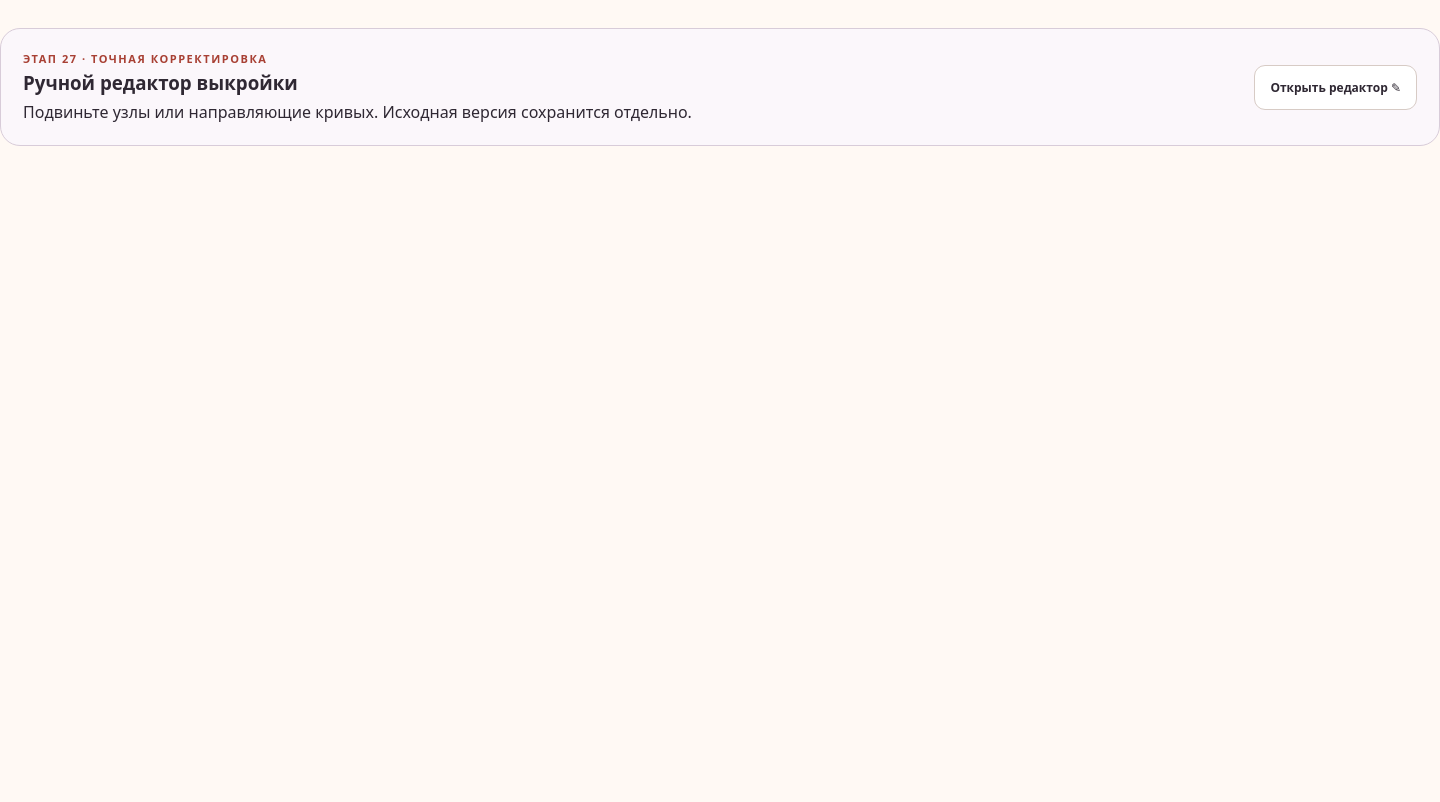
stage 27 pattern geometry editor › shows a safe server rejection without losing the draft
Click the button "Открыть редактор ✎".
click(1336, 87)  # box [1254, 64, 1417, 110]
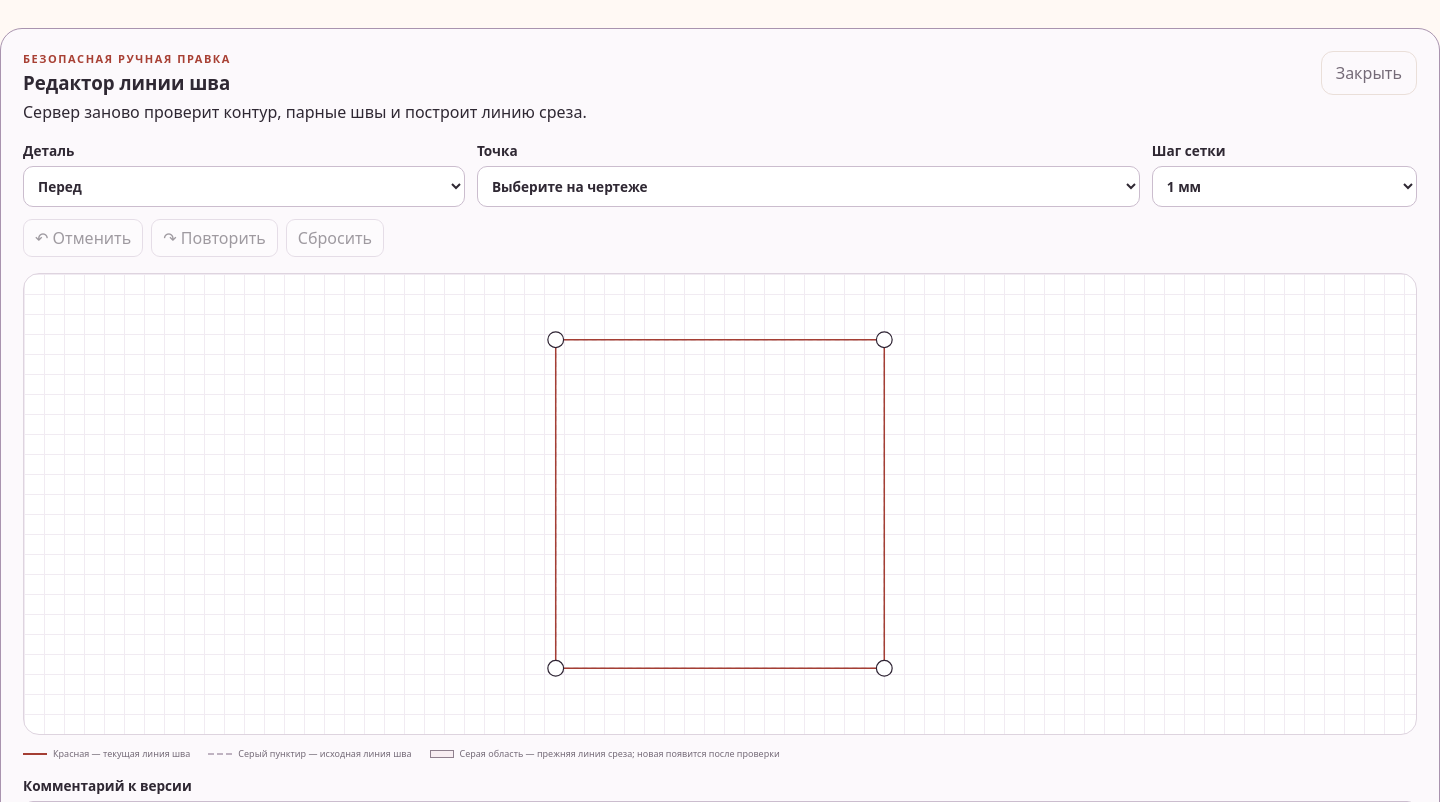
Select "Узел · right" in the dropdown labelled "Точка" at [808, 186], box [477, 166, 1140, 207]
(page scrolled)
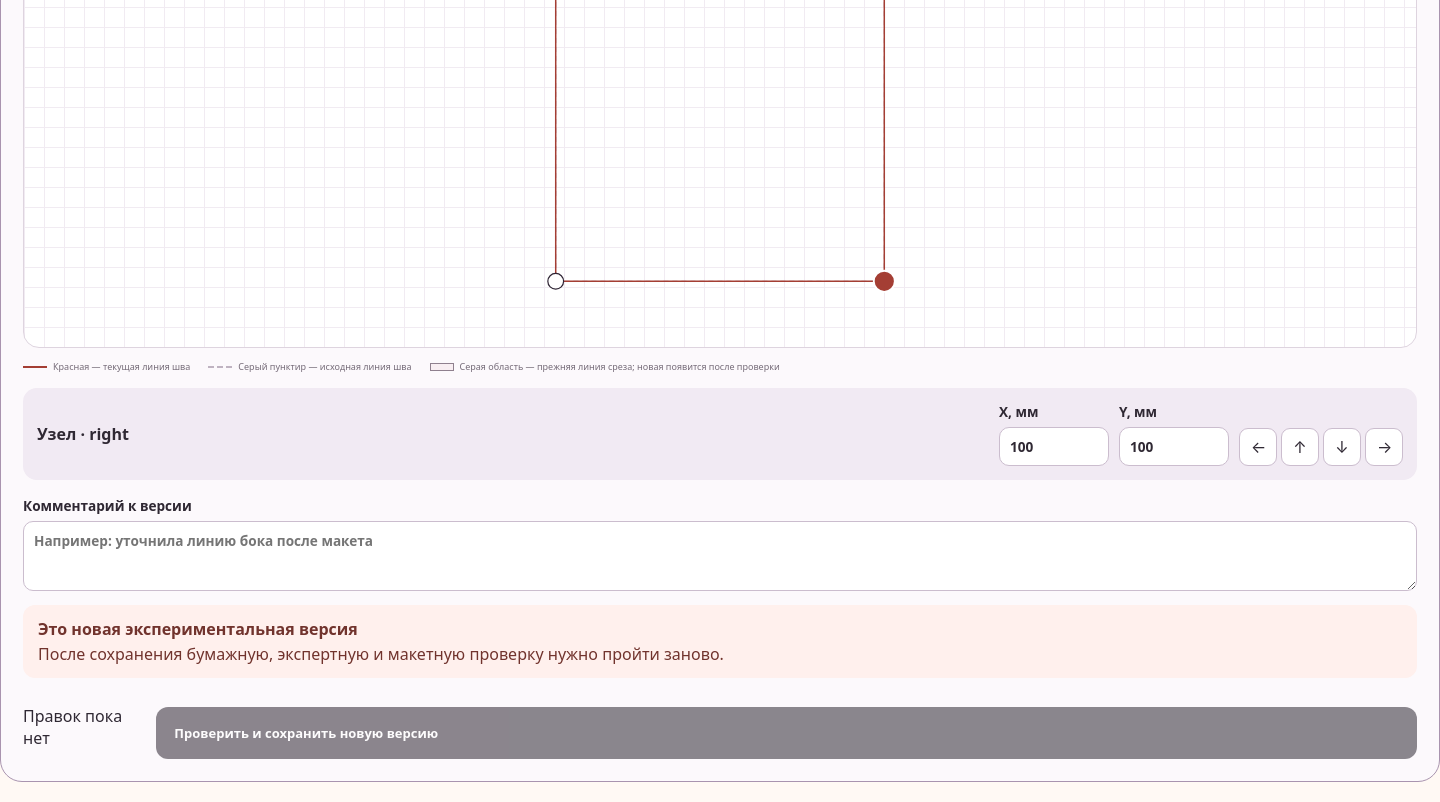
Click the button named "Сдвинуть вправо".
click(1384, 447)  # box [1365, 428, 1403, 466]
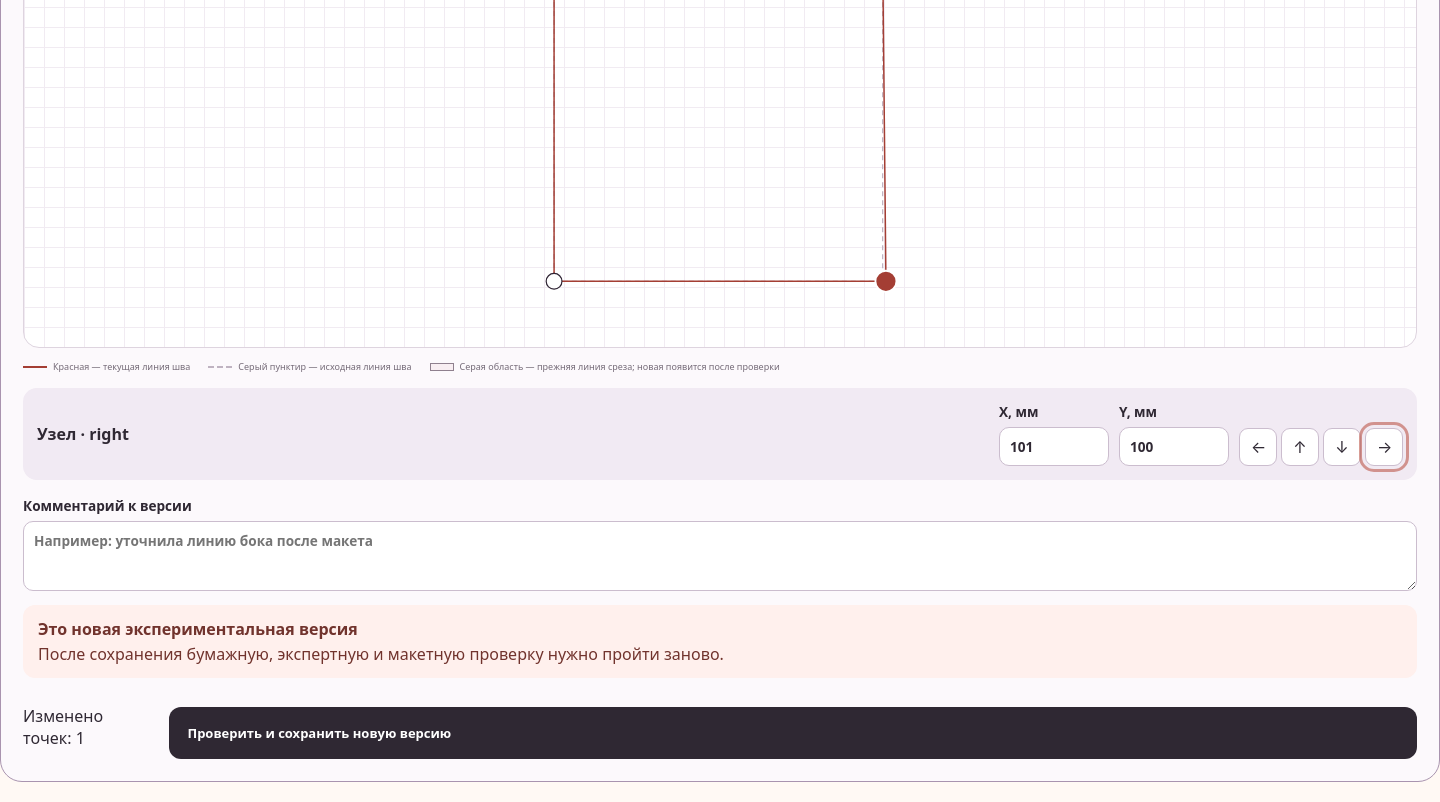
Click the button "Проверить и сохранить новую версию".
click(319, 733)  # box [170, 707, 1417, 759]
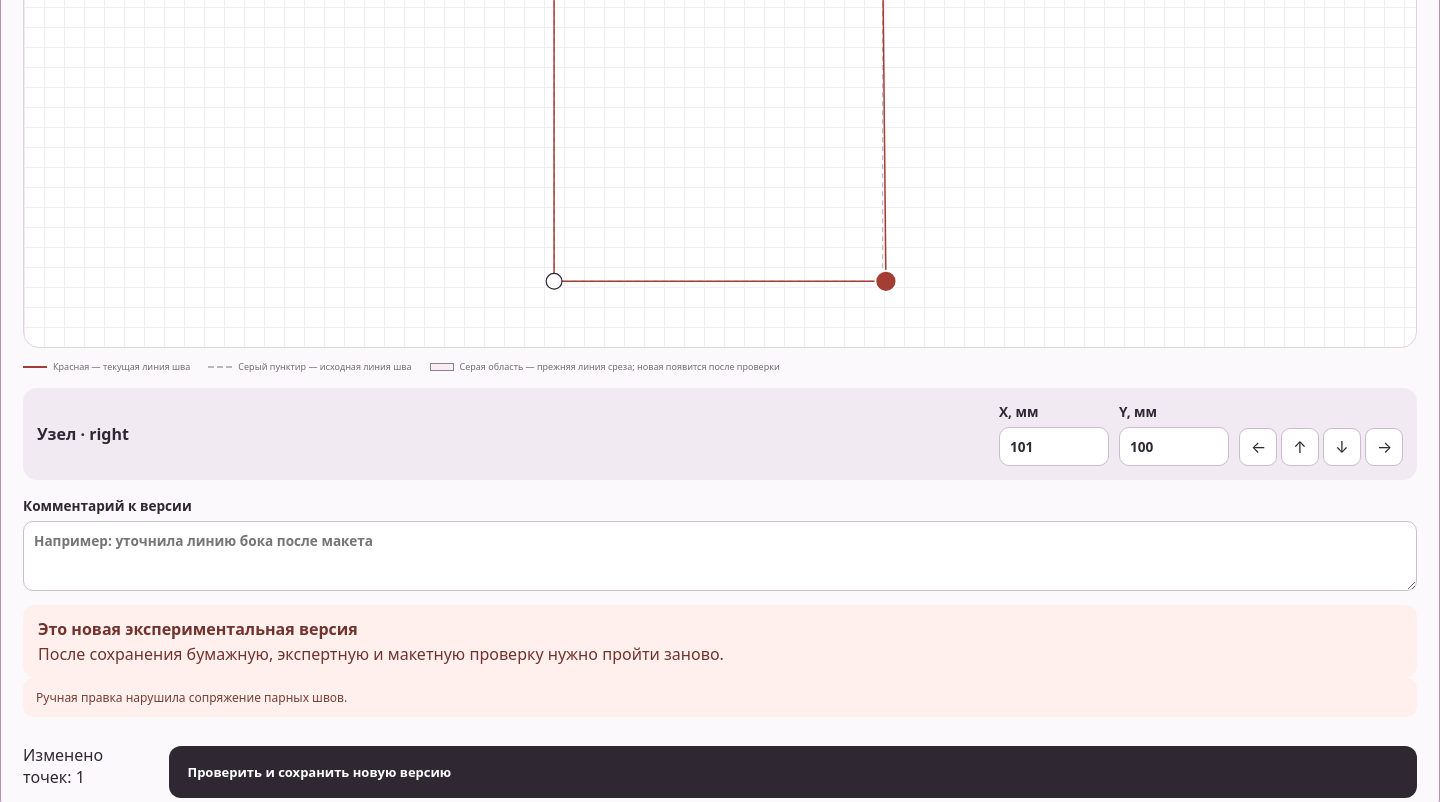
Expected: the text "Изменено точек: 1" is shown, [23, 744, 103, 788]
Expected: the message shows "нарушила сопряжение", [36, 689, 347, 706]
